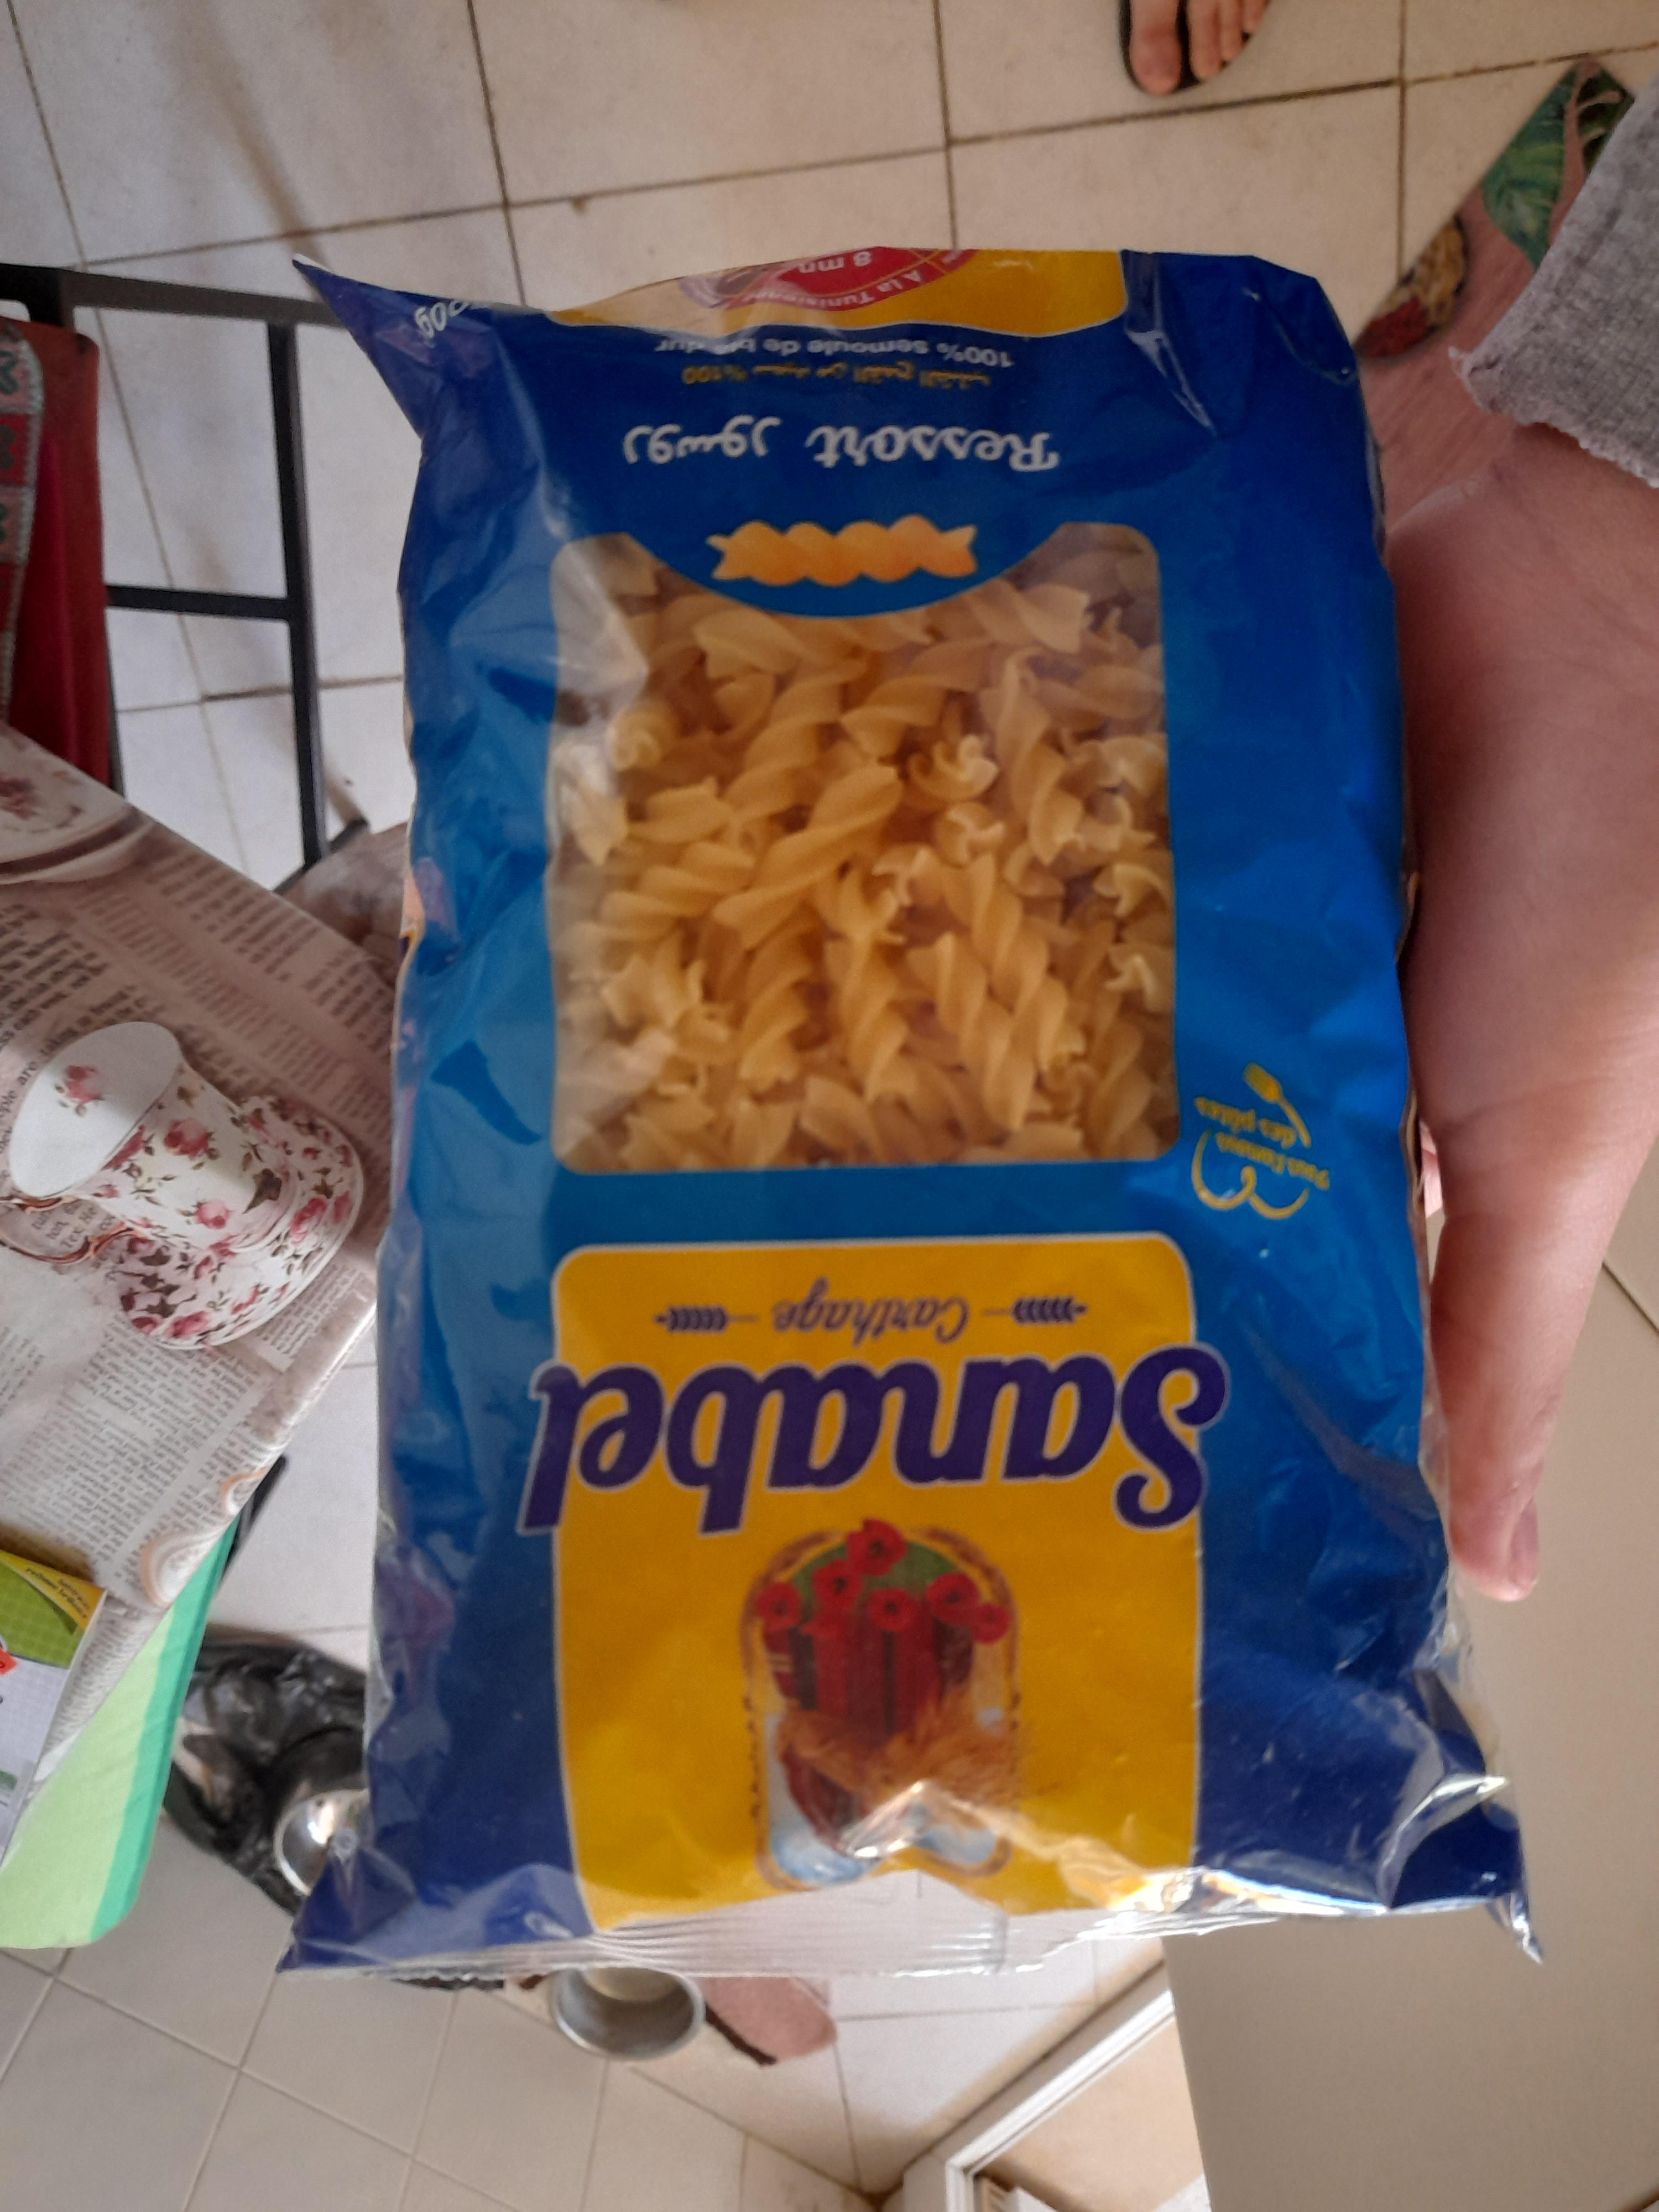Ressort: (1023, 1362, 1516, 2055)
